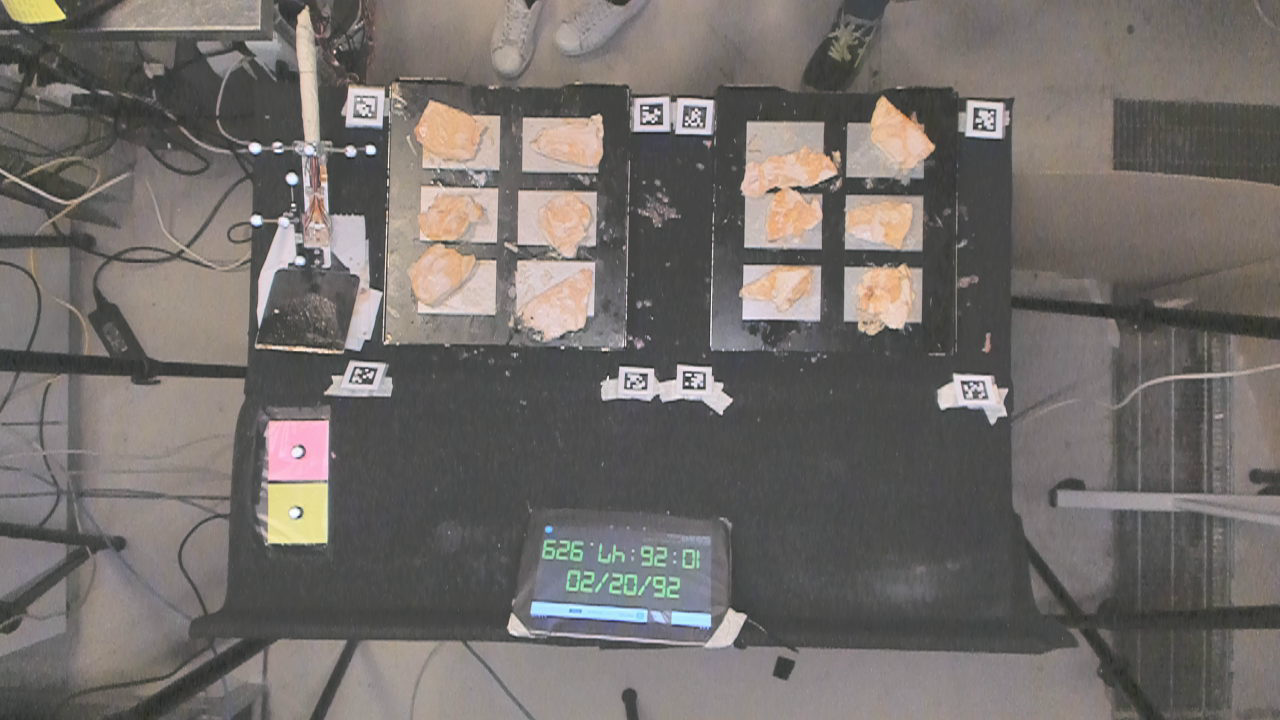chicken: (529, 108, 615, 176), (403, 235, 478, 311), (735, 251, 820, 315), (412, 95, 487, 167), (733, 145, 841, 190), (535, 190, 601, 261), (870, 97, 933, 171), (522, 269, 589, 337), (854, 263, 916, 333), (416, 185, 485, 241), (850, 198, 913, 254), (763, 189, 825, 245)
marker: (266, 419, 328, 479)
